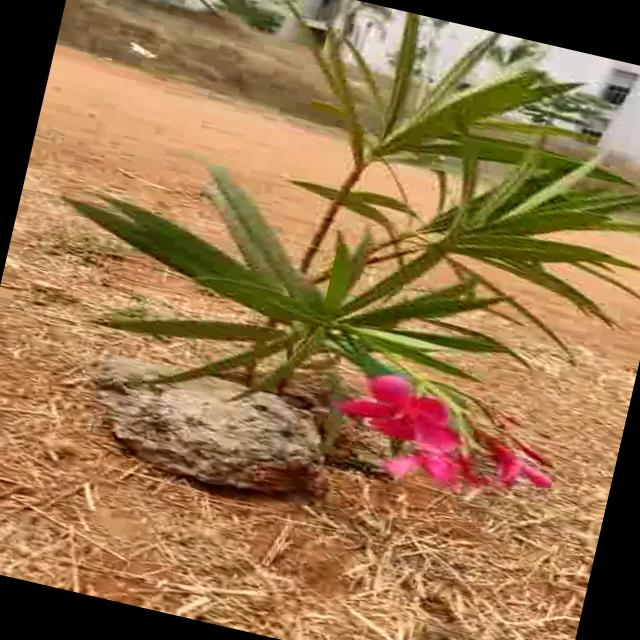OLEANDER: (31, 0, 640, 491)
